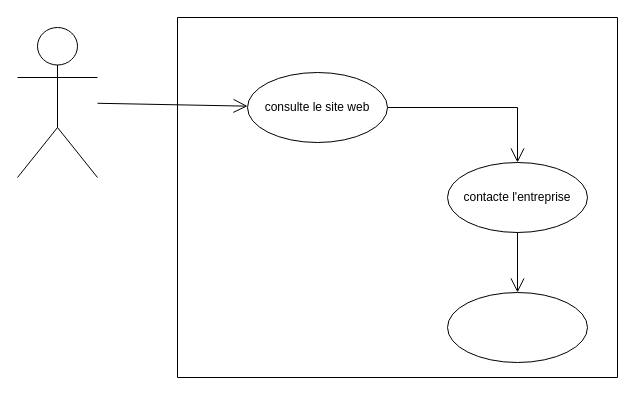
The diagram is 636 pixels wide and 396 high, and some of its shapes have lost their labels. Here are the shapes that lost their labels. From the top down, the box of each, then its label:
(16, 26, 98, 178): client
(446, 292, 588, 362): defini l'opération
